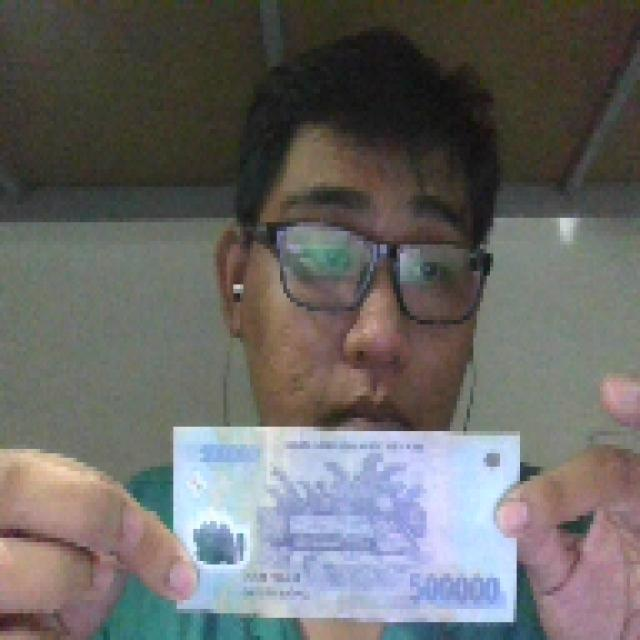500 000 VND: (166, 418, 526, 626)
